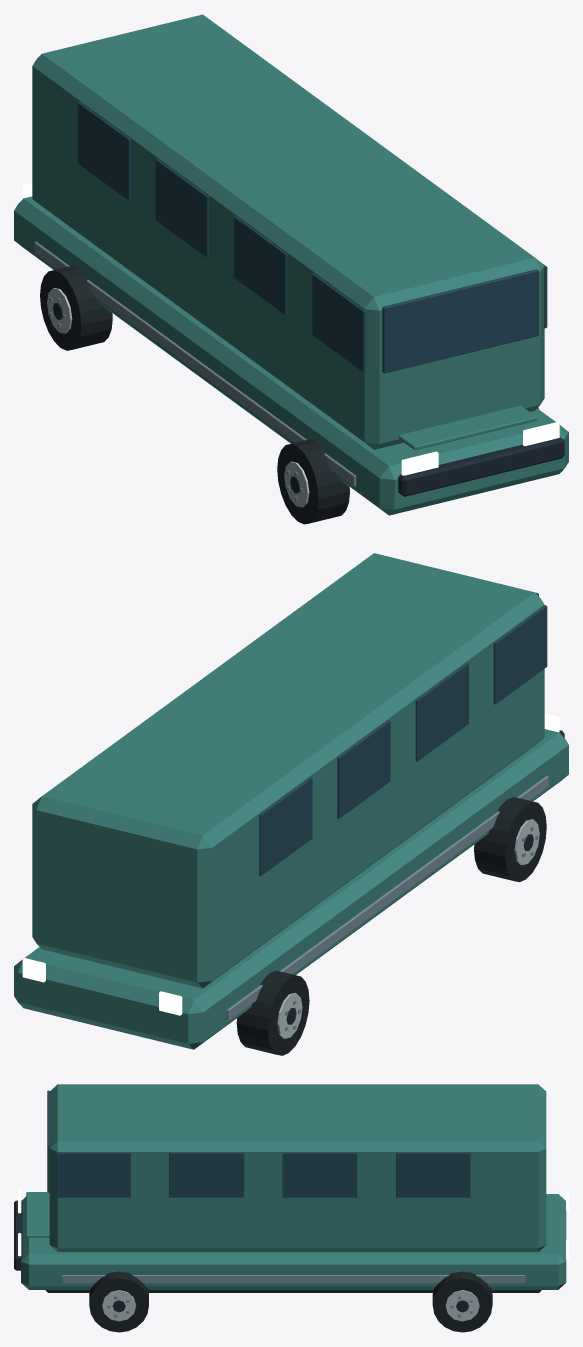
File: road-minibus.lod0.glb
3 views of the same model, one above another, from view 1: azimuth 30°, elevation 25°; view 2: azimuth 150°, elevation 25°; view 3: azimuth 270°, elevation 25° (orthographic). The views are drawn at different scales.
Parts seen in each view (by area): view 1: road-minibus__body, road-minibus__wheel_steer_0_l, road-minibus__wheel_steer_1_l; view 2: road-minibus__body, road-minibus__wheel_steer_1_l, road-minibus__wheel_steer_0_l; view 3: road-minibus__body, road-minibus__wheel_steer_1_r, road-minibus__wheel_steer_0_r.
Boxes of the visible parts, x1,y1,x2,y2 form: road-minibus__body: [14, 14, 568, 515]; road-minibus__wheel_steer_0_l: [277, 439, 349, 524]; road-minibus__wheel_steer_1_l: [40, 265, 112, 350]; road-minibus__body: [14, 553, 568, 1049]; road-minibus__wheel_steer_1_l: [236, 970, 309, 1055]; road-minibus__wheel_steer_0_l: [474, 797, 546, 882]; road-minibus__body: [14, 1084, 568, 1292]; road-minibus__wheel_steer_1_r: [432, 1271, 492, 1332]; road-minibus__wheel_steer_0_r: [89, 1271, 148, 1332].
Bounding box in the file's own units: 2.25 × 2.25 × 6.31.
